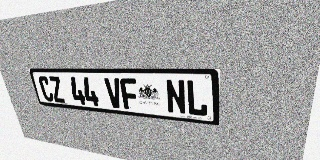4: (81, 77, 100, 106), (68, 77, 87, 105)
C: (37, 76, 55, 102)
F: (119, 78, 140, 110)
L: (186, 80, 208, 117)
N: (165, 79, 187, 115)
V: (104, 78, 124, 109)
Z: (48, 76, 66, 103)
